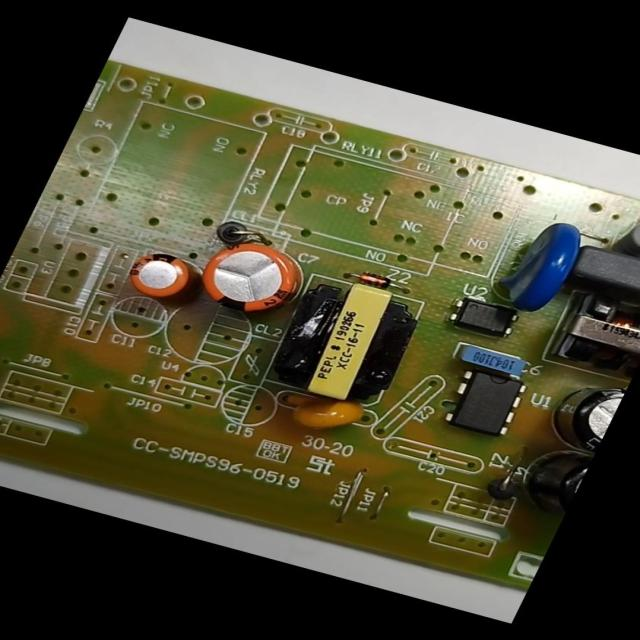Cap1: (180, 220, 328, 337)
Cap2: (108, 237, 217, 317)
Cap3: (527, 362, 631, 463)
Cap4: (497, 433, 596, 532)
MOSFET: (429, 358, 539, 448)
Mov: (482, 210, 599, 324)
Resistor: (609, 200, 639, 266)
Transformer: (254, 262, 437, 417), (540, 278, 639, 387)
